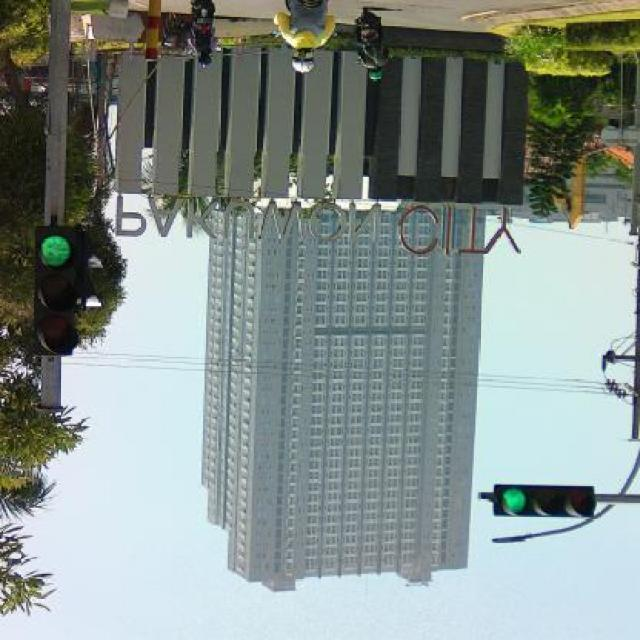green_light: (33, 224, 87, 352), (478, 482, 594, 515)
